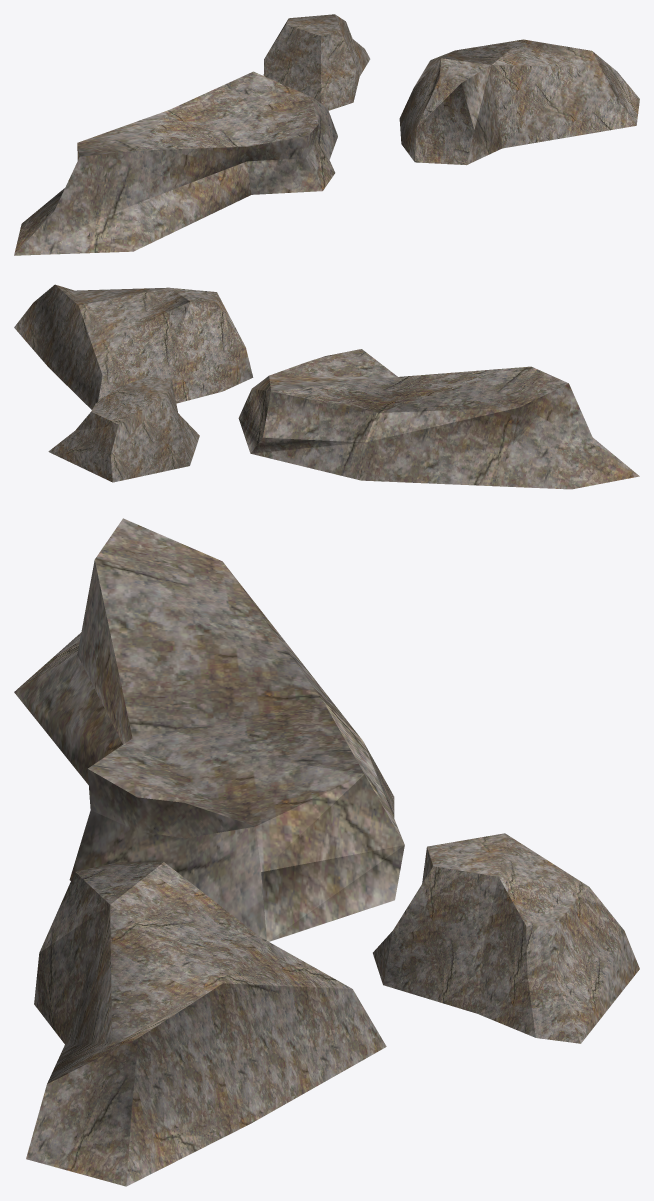
Rendered from RckM02.glb.
The picture shows the model from 3 angles, top to bottom: view 1: azimuth 30°, elevation 25°; view 2: azimuth 150°, elevation 25°; view 3: azimuth 270°, elevation 25°; orthographic projection. The views are drawn at different scales.
Visible parts, largest first — view 1: _RckM02; view 2: _RckM02; view 3: _RckM02.
Part boxes in pixels (x1,y1,x2,y2): _RckM02: (14, 14, 639, 255); _RckM02: (14, 284, 639, 489); _RckM02: (14, 518, 639, 1186).
Bounding box in the file's own units: 27.47 × 3.34 × 12.51.
Materials: 1 (1 with a texture image).
